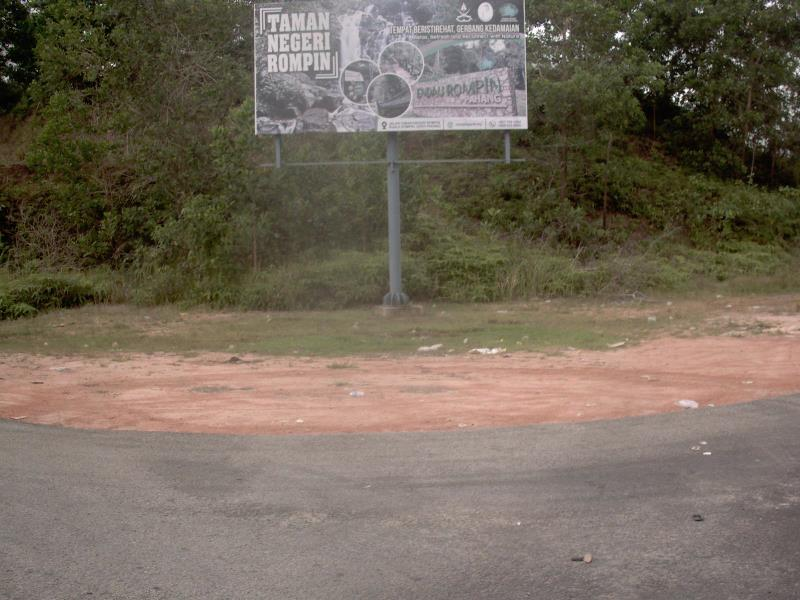ads_sign: (222, 2, 553, 151)
